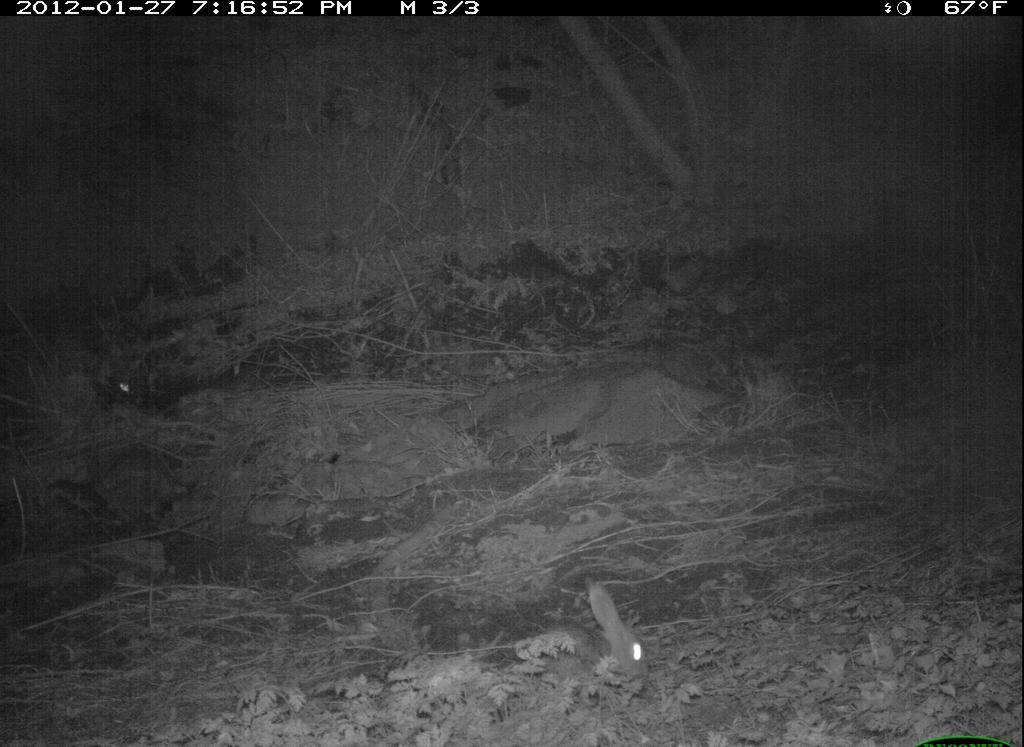rabbit: (489, 570, 666, 715)
